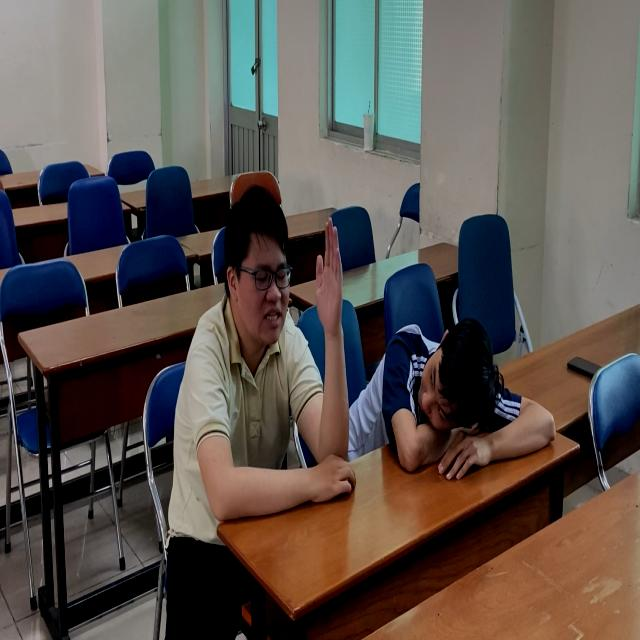raise_hand: (188, 180, 356, 529)
